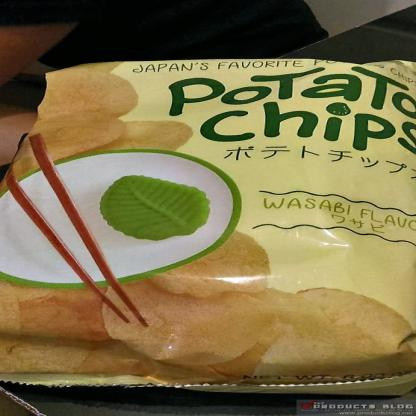potatochip: (0, 51, 415, 405)
